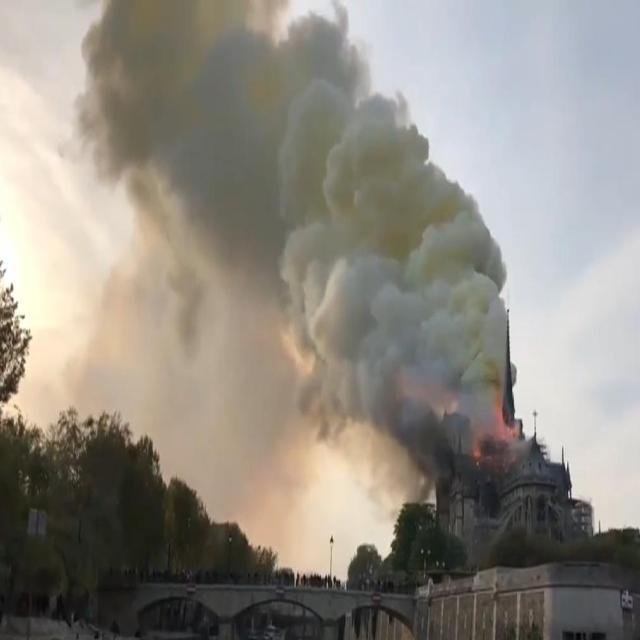Smoke: (51, 0, 507, 421)
